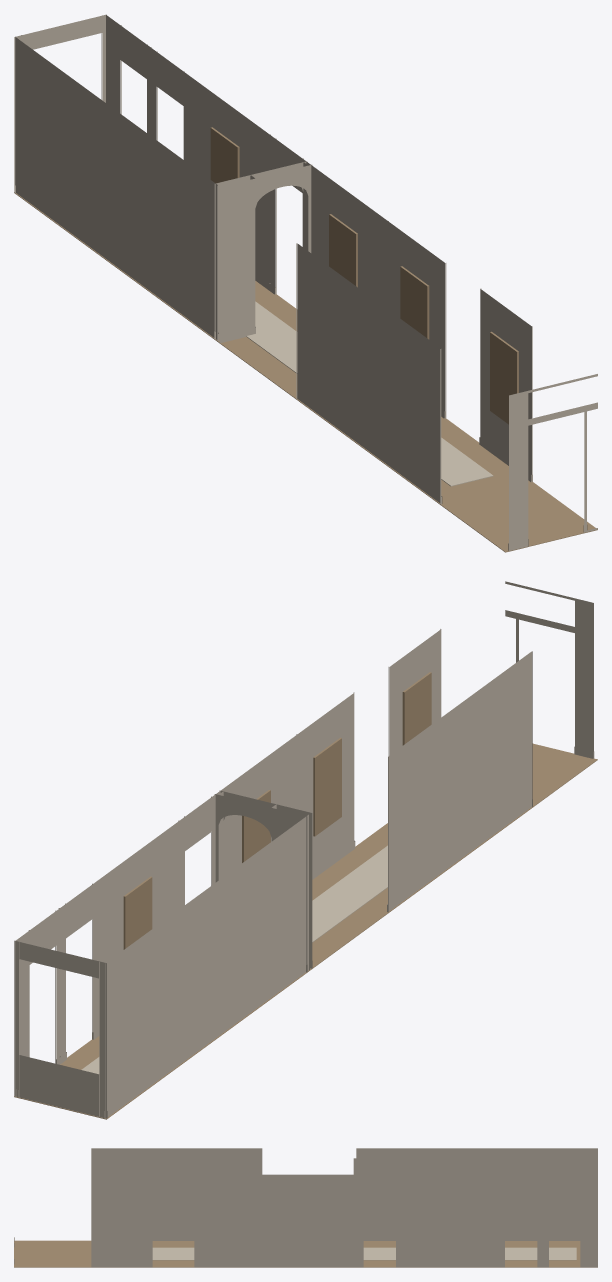
The model's file is corridor-1.glb.
The picture shows the model from 3 angles, top to bottom: view 1: azimuth 30°, elevation 25°; view 2: azimuth 150°, elevation 25°; view 3: azimuth 270°, elevation 25°; orthographic projection. The views are drawn at different scales.
Parts seen in each view (by area): view 1: DESIGN | corridor removable wall finish, DESIGN | corridor floor finish, DESIGN | Quiet hall runner, DESIGN | Shallow developed wall field.003, DESIGN | Shallow developed wall field.002, DESIGN | Shallow developed wall field.001, DESIGN | Shallow developed wall field; view 2: DESIGN | corridor removable wall finish, DESIGN | corridor floor finish, DESIGN | Quiet hall runner, DESIGN | Shallow developed wall field.002, DESIGN | Shallow developed wall field.003, DESIGN | Shallow developed wall field, DESIGN | Shallow developed wall field.001; view 3: DESIGN | corridor removable wall finish, DESIGN | corridor floor finish, DESIGN | Quiet hall runner.
Part boxes in pixels (x1,y1,x2,y2): DESIGN | corridor removable wall finish: (14,14,597,550); DESIGN | corridor floor finish: (14,192,597,552); DESIGN | Quiet hall runner: (246,301,493,486); DESIGN | Shallow developed wall field.003: (490,331,518,424); DESIGN | Shallow developed wall field.002: (400,266,429,339); DESIGN | Shallow developed wall field.001: (329,214,357,287); DESIGN | Shallow developed wall field: (210,127,239,183); DESIGN | corridor removable wall finish: (14,581,594,1118); DESIGN | corridor floor finish: (14,743,597,1119); DESIGN | Quiet hall runner: (81,845,387,1074); DESIGN | Shallow developed wall field.002: (313,737,341,836); DESIGN | Shallow developed wall field.003: (402,672,431,745); DESIGN | Shallow developed wall field: (123,876,152,949); DESIGN | Shallow developed wall field.001: (242,790,270,862); DESIGN | corridor removable wall finish: (14,1148,597,1267); DESIGN | corridor floor finish: (14,1240,597,1267); DESIGN | Quiet hall runner: (152,1247,576,1260).
Size of the model in its own units: 1.7 by 2.74 by 15.63.
